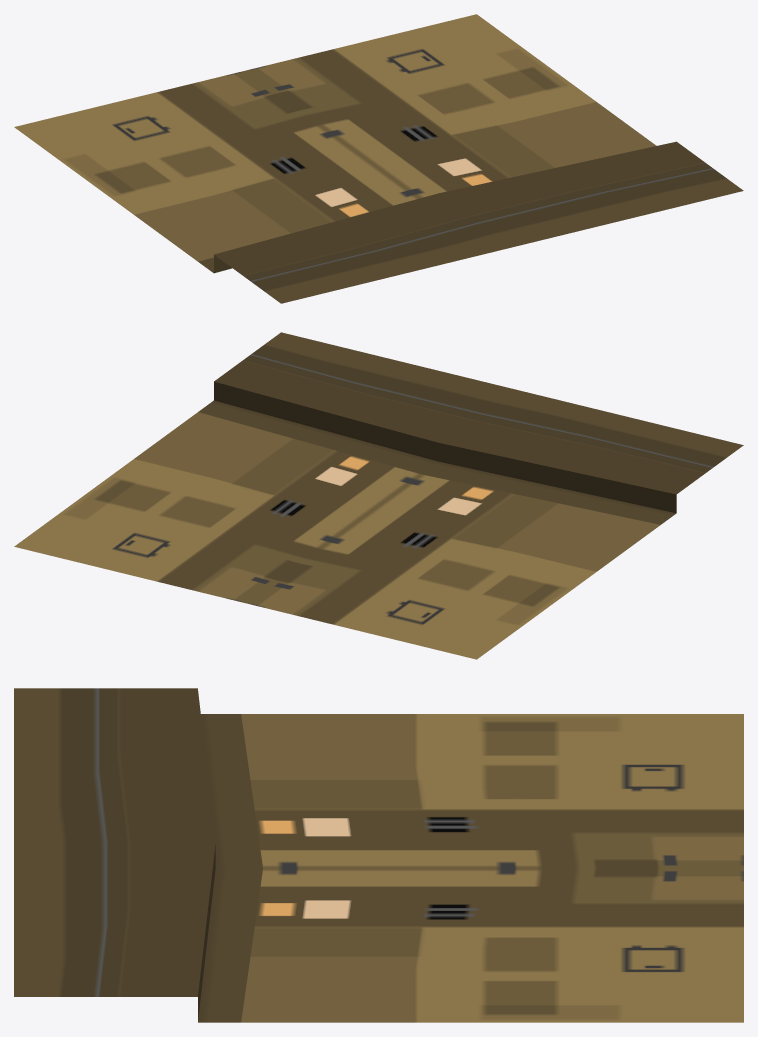
File: SM_Env_Road_Asphalt_Short_01.gltf
3 renders of one model, top to bottom at view 1: azimuth 30°, elevation 25°; view 2: azimuth 150°, elevation 25°; view 3: azimuth 270°, elevation 25°, orthographic. The views are drawn at different scales.
Visible parts, largest first — view 1: SM_Env_Road_Asphalt_Short_01; view 2: SM_Env_Road_Asphalt_Short_01; view 3: SM_Env_Road_Asphalt_Short_01.
Boxes of the visible parts, x1,y1,x2,y2 form: SM_Env_Road_Asphalt_Short_01: (14,14,743,303); SM_Env_Road_Asphalt_Short_01: (14,332,743,659); SM_Env_Road_Asphalt_Short_01: (14,688,743,1022).
Bounding box in the file's own units: 5 × 0.1948 × 5.
1 material, 1 textured.
